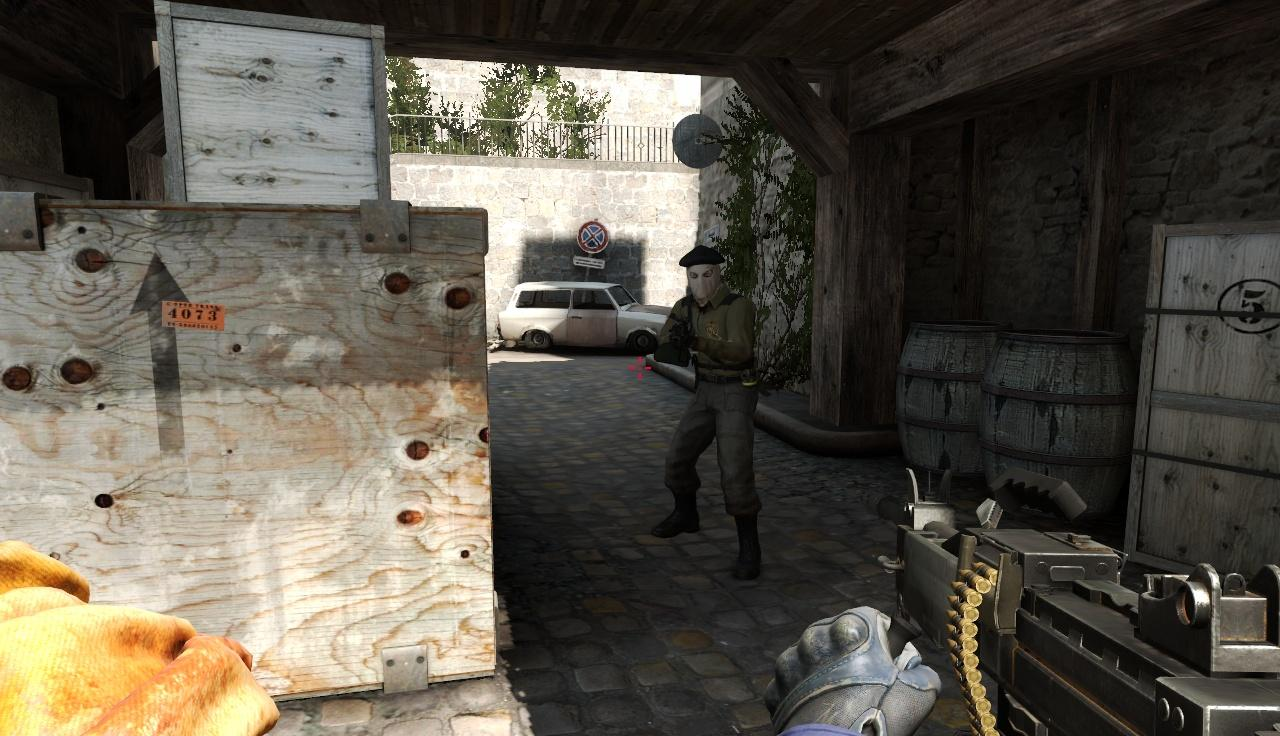rifle: (866, 459, 1280, 736)
tt: (679, 245, 758, 562)
tthead: (686, 247, 723, 308)
